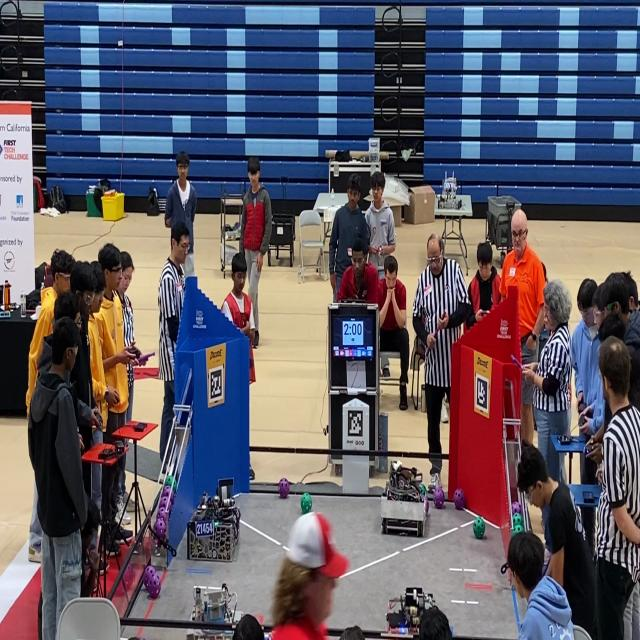artifact_green: (473, 517, 485, 539), (301, 493, 312, 513), (165, 475, 176, 492), (511, 525, 524, 536), (512, 501, 522, 514), (513, 514, 523, 526), (419, 483, 427, 497), (164, 475, 173, 486), (172, 480, 177, 491)
artifact_purple: (147, 574, 161, 599), (123, 563, 135, 589), (143, 565, 157, 587), (154, 518, 166, 540), (433, 487, 445, 509), (454, 489, 465, 510), (162, 486, 174, 504), (279, 478, 289, 498), (157, 507, 168, 522), (512, 501, 523, 516), (159, 496, 169, 509), (161, 486, 172, 497), (423, 496, 429, 515), (170, 491, 174, 507)
